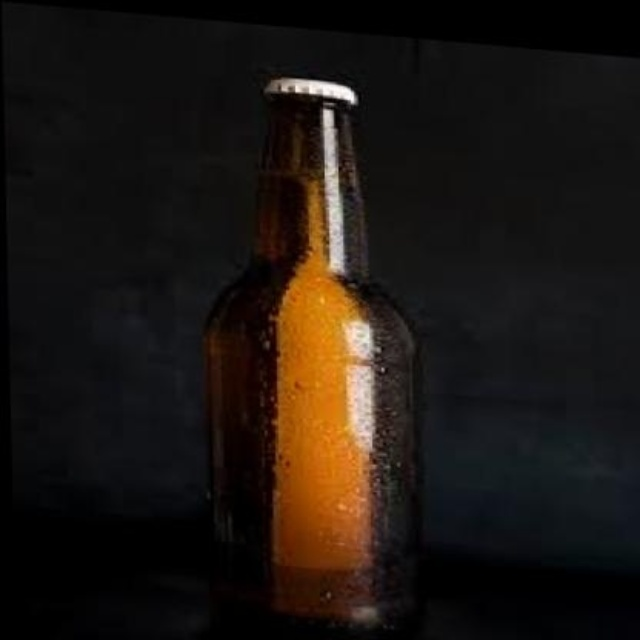trash: (206, 75, 415, 628)
